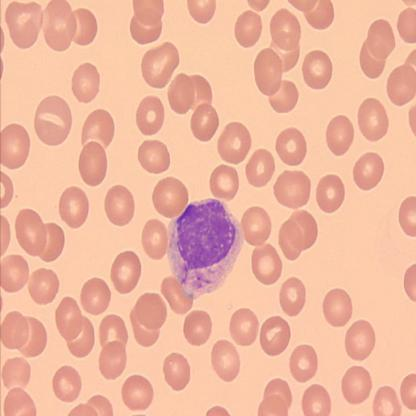Myelocyte: (172, 196, 241, 286)
